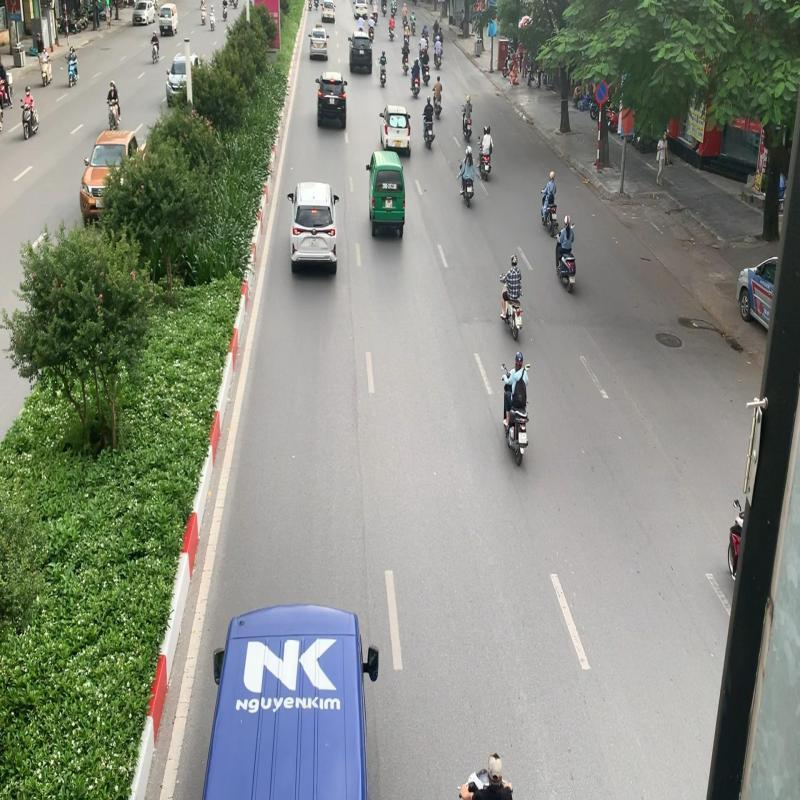helmet: (515, 351, 524, 368), (510, 254, 518, 266), (564, 214, 570, 226)
licenseplate: (518, 432, 527, 443), (515, 316, 522, 324), (569, 276, 576, 284)
motorcyclist: (500, 350, 531, 467), (499, 252, 524, 342), (554, 214, 577, 294)
